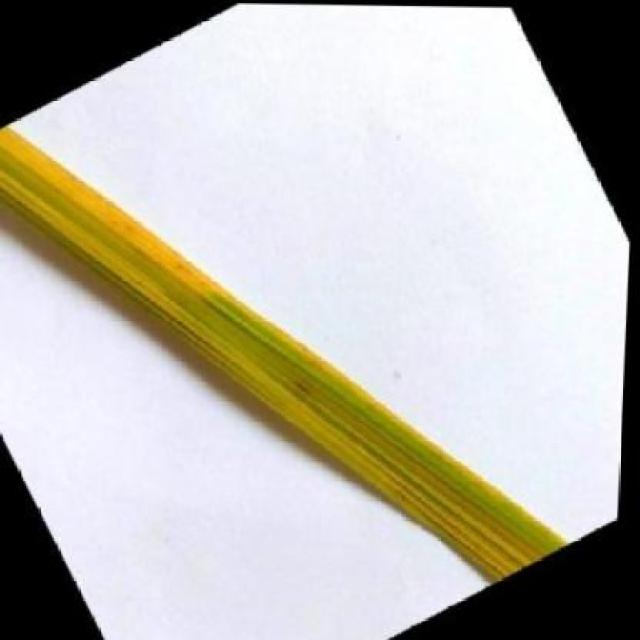Rice False Smut: (0, 0, 595, 640)
